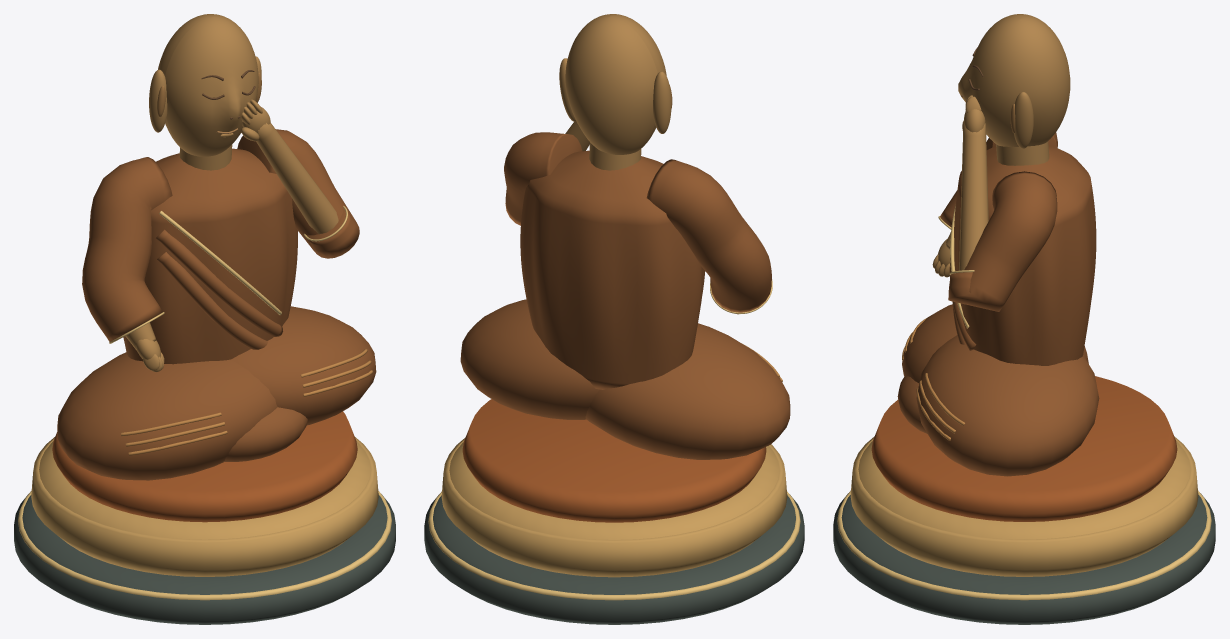
Rendered from arhat_04.glb.
3 views of the same model, side by side, from view 1: azimuth 30°, elevation 25°; view 2: azimuth 150°, elevation 25°; view 3: azimuth 270°, elevation 25° (orthographic).
Parts seen in each view (by area): view 1: arhat_04_ArhatDrapery, arhat_04_AntiqueGold, arhat_04_CarvedPlinth, arhat_04_WarmBronze, arhat_04_SaffronDrapery, arhat_04_RaisedGoldBorders, arhat_04_DraperyFoldHighlights; view 2: arhat_04_ArhatDrapery, arhat_04_SaffronDrapery, arhat_04_AntiqueGold, arhat_04_CarvedPlinth, arhat_04_WarmBronze, arhat_04_RaisedGoldBorders; view 3: arhat_04_ArhatDrapery, arhat_04_SaffronDrapery, arhat_04_AntiqueGold, arhat_04_CarvedPlinth, arhat_04_WarmBronze, arhat_04_RaisedGoldBorders, arhat_04_DraperyFoldHighlights.
Boxes of the visible parts, x1,y1,x2,y2 form: arhat_04_ArhatDrapery: (57,129,376,480); arhat_04_AntiqueGold: (31,437,378,576); arhat_04_CarvedPlinth: (14,494,395,624); arhat_04_WarmBronze: (125,14,338,372); arhat_04_SaffronDrapery: (52,411,357,522); arhat_04_RaisedGoldBorders: (18,206,391,600); arhat_04_DraperyFoldHighlights: (121,349,372,455); arhat_04_ArhatDrapery: (460,132,790,459); arhat_04_SaffronDrapery: (462,399,766,522); arhat_04_AntiqueGold: (441,437,787,577); arhat_04_CarvedPlinth: (424,495,804,624); arhat_04_WarmBronze: (559,14,738,314); arhat_04_RaisedGoldBorders: (428,279,800,600); arhat_04_ArhatDrapery: (897,132,1099,476); arhat_04_SaffronDrapery: (871,376,1177,521); arhat_04_AntiqueGold: (850,436,1198,576); arhat_04_CarvedPlinth: (833,493,1215,624); arhat_04_WarmBronze: (932,14,1070,277); arhat_04_RaisedGoldBorders: (837,205,1211,600); arhat_04_DraperyFoldHighlights: (902,318,964,440).
Size of the model in its own units: 0.92 by 1.42 by 0.92.
